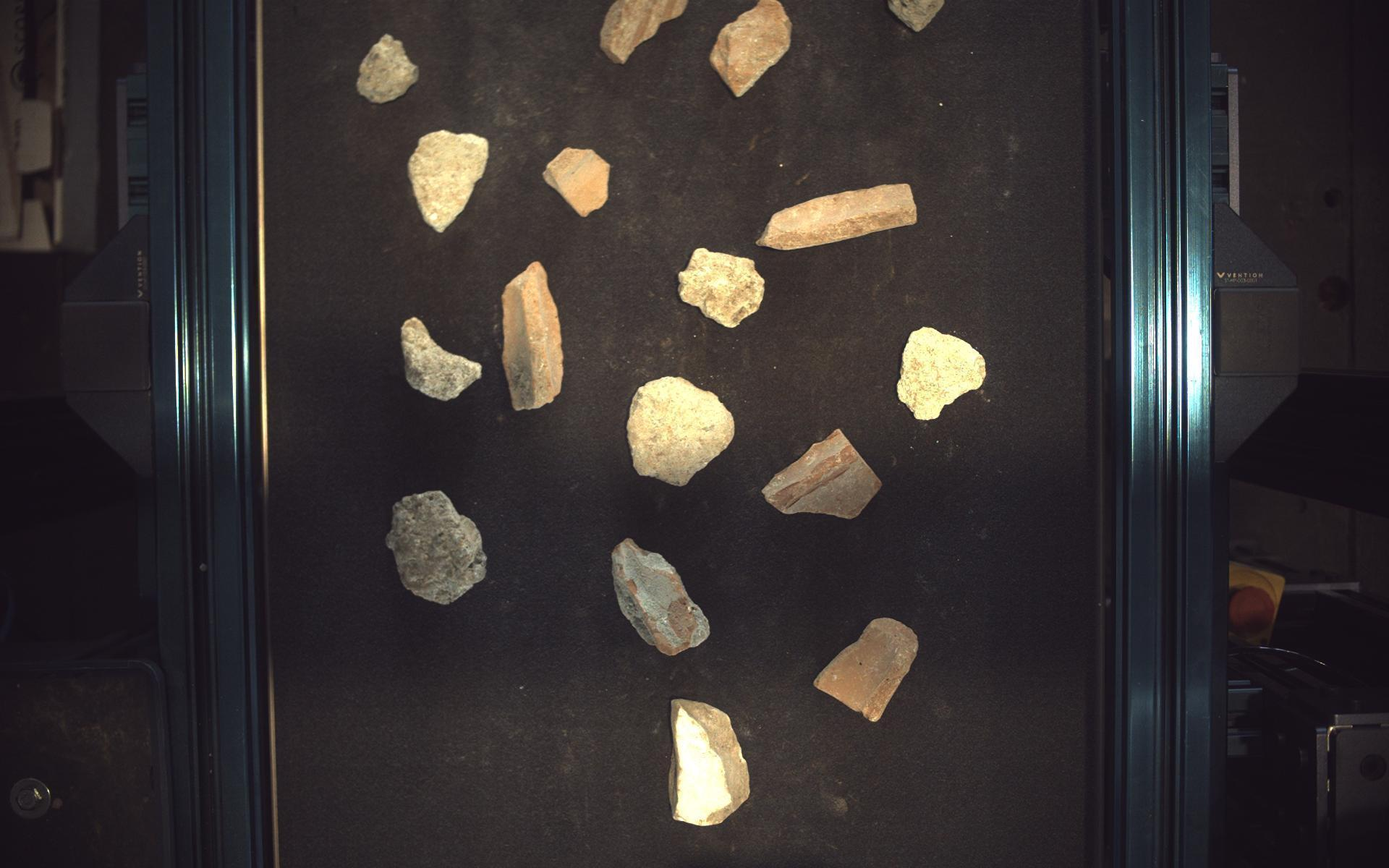brick: (612, 539, 711, 657), (763, 428, 884, 519), (758, 182, 919, 250), (816, 618, 920, 723), (502, 261, 564, 411), (710, 1, 793, 95), (600, 1, 688, 63), (543, 147, 611, 216)
concrete: (627, 376, 736, 487), (386, 491, 486, 605), (899, 327, 988, 420), (409, 129, 489, 231), (679, 247, 765, 328), (401, 318, 482, 401), (356, 33, 419, 102), (889, 1, 947, 30)
tile: (670, 700, 749, 828)
